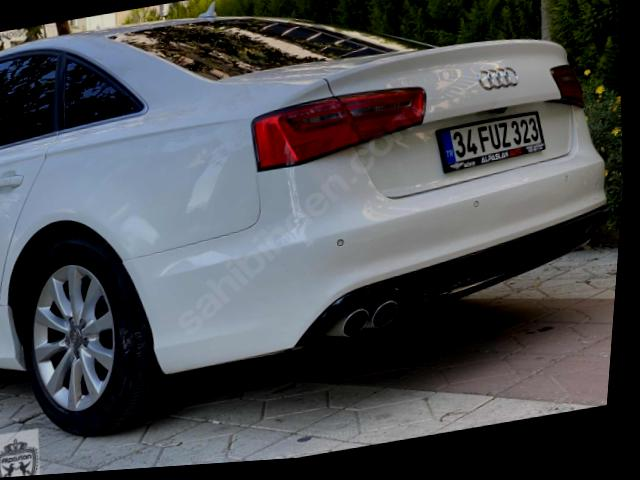plaka: (437, 112, 545, 172)
